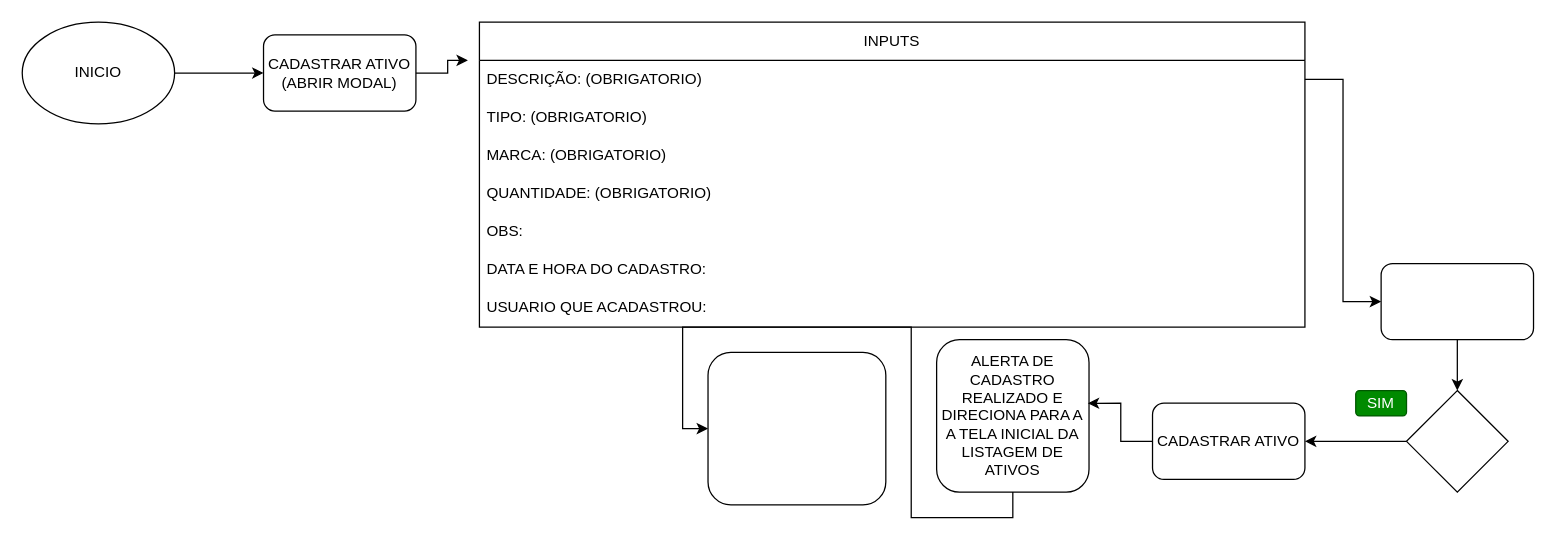
Some shapes in this 1556 by 550 pixel diagram are drawn without their labels. The shapes that lost their labels are listed below. From the top down, each one's centre as x and y in pixels, then its label:
At (1457,301): "VALIDAÇA DE CAMPOS".
At (796,428): "OPÇAO PARA ESCOLHER SE DESEJA CADASTRAR MAIS 1 OU VER A LISTAGEM DE ATIVOS".
At (1456,440): "VALIDAÇÃO".
